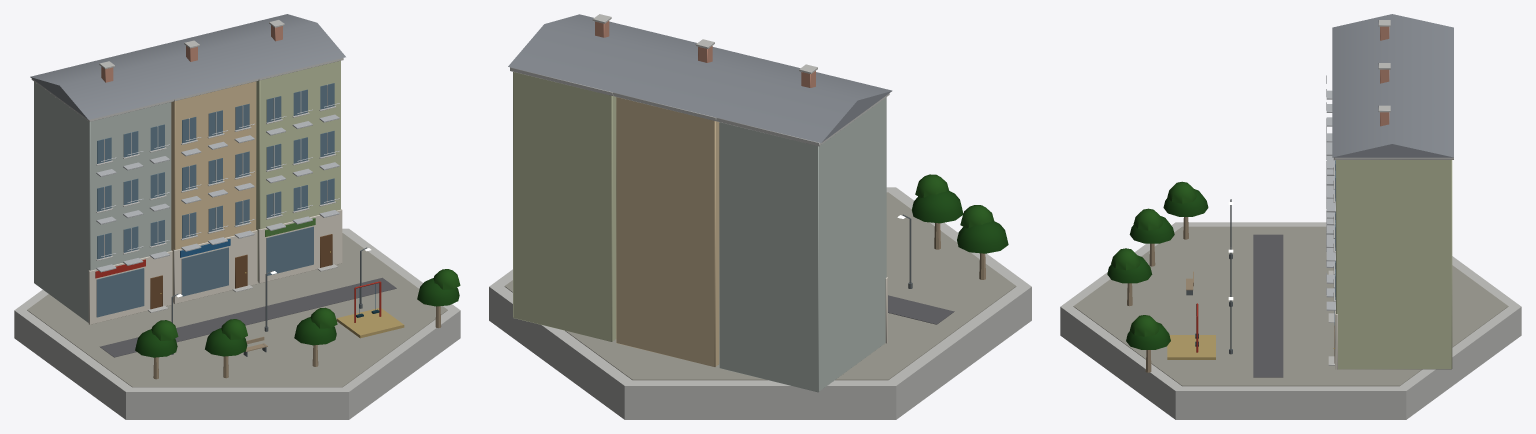
Rendered from housing_us.glb.
3 renders of one model, left to right at view 1: azimuth 30°, elevation 25°; view 2: azimuth 150°, elevation 25°; view 3: azimuth 270°, elevation 25°, orthographic. The views are drawn at different scales.
Visible parts, largest first — view 1: plaster, pavers, wall_concrete, glass, roof_slate, stone, leaf, metal, asphalt, wood, paint, sandbag (+2 smaller); view 2: plaster, wall_concrete, roof_slate, pavers, leaf, asphalt, brick; view 3: pavers, plaster, wall_concrete, roof_slate, leaf, asphalt, metal, sandbag, wood.
Part boxes in pixels (x1=…): plaster: x1=34, y1=60, x2=340, y2=322; pavers: x1=27, y1=233, x2=447, y2=387; wall_concrete: x1=14, y1=20, x2=460, y2=419; glass: x1=96, y1=83, x2=334, y2=317; roof_slate: x1=30, y1=14, x2=345, y2=119; stone: x1=88, y1=209, x2=342, y2=324; leaf: x1=135, y1=269, x2=460, y2=357; metal: x1=96, y1=103, x2=339, y2=272; asphalt: x1=100, y1=277, x2=396, y2=357; wood: x1=150, y1=234, x2=441, y2=379; paint: x1=95, y1=218, x2=381, y2=322; sandbag: x1=336, y1=308, x2=404, y2=338; plaster: x1=513, y1=72, x2=886, y2=392; wall_concrete: x1=489, y1=14, x2=1031, y2=419; roof_slate: x1=508, y1=14, x2=892, y2=142; pavers: x1=504, y1=192, x2=1016, y2=380; leaf: x1=912, y1=174, x2=1008, y2=253; asphalt: x1=888, y1=295, x2=954, y2=324; brick: x1=595, y1=21, x2=815, y2=87; pavers: x1=1073, y1=226, x2=1508, y2=386; plaster: x1=1336, y1=160, x2=1452, y2=369; wall_concrete: x1=1060, y1=20, x2=1521, y2=419; roof_slate: x1=1332, y1=14, x2=1453, y2=157; leaf: x1=1107, y1=181, x2=1208, y2=349; asphalt: x1=1253, y1=234, x2=1283, y2=377; metal: x1=1326, y1=75, x2=1335, y2=310; sandbag: x1=1167, y1=335, x2=1215, y2=359; wood: x1=1127, y1=217, x2=1334, y2=372.
Size of the model in its own units: 21.3 by 15.9 by 24.6.
